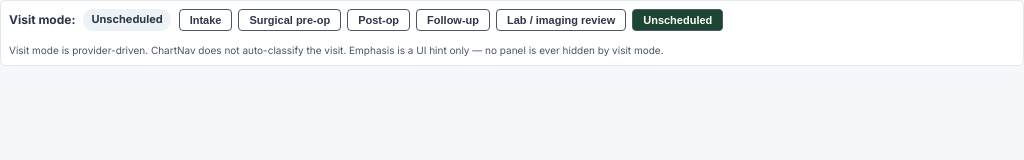
Test: VisitModeRibbon › PATCHes visit mode on click and refetches state
The width and height of the screenshot is (1024, 160).
Click the button with test id "visit-mode-ribbon-option-follow_up": x=453, y=20 [416,9,490,31]
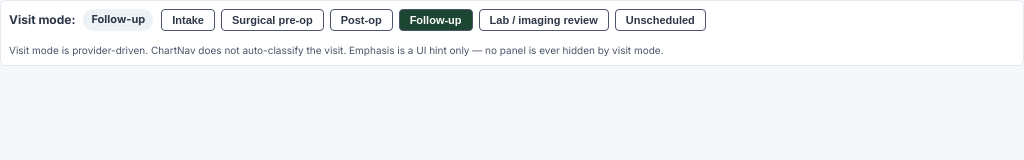
Expected: the text with test id "visit-mode-ribbon-active" reads "Follow-up", [92,12,145,26]
